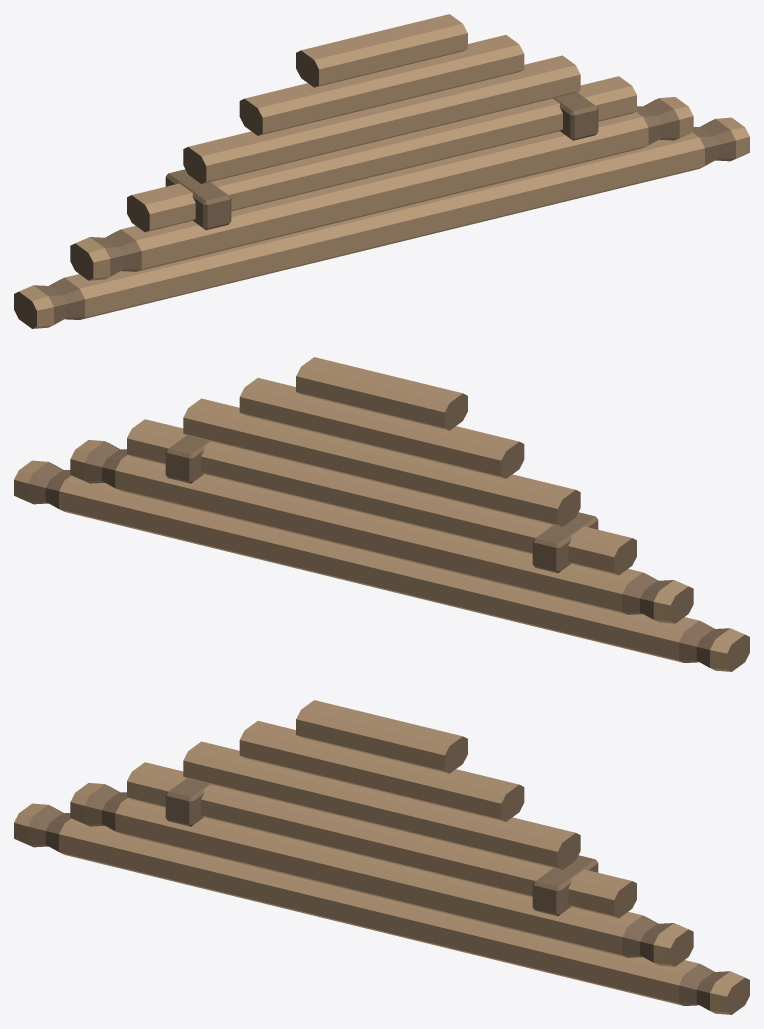
Rendered from laft_gable_triangle.glb.
The picture shows the model from 3 angles, top to bottom: view 1: azimuth 30°, elevation 25°; view 2: azimuth 150°, elevation 25°; view 3: azimuth 330°, elevation 25°; orthographic projection.
Parts seen in each view (by area): view 1: laft_gable_triangle; view 2: laft_gable_triangle; view 3: laft_gable_triangle.
Boxes of the visible parts, left/top/right/bottom form: laft_gable_triangle: left=14, top=14, right=749, bottom=328; laft_gable_triangle: left=14, top=357, right=749, bottom=671; laft_gable_triangle: left=14, top=700, right=749, bottom=1014.
Bounding box in the file's own units: 5.05 × 1.37 × 0.5.
